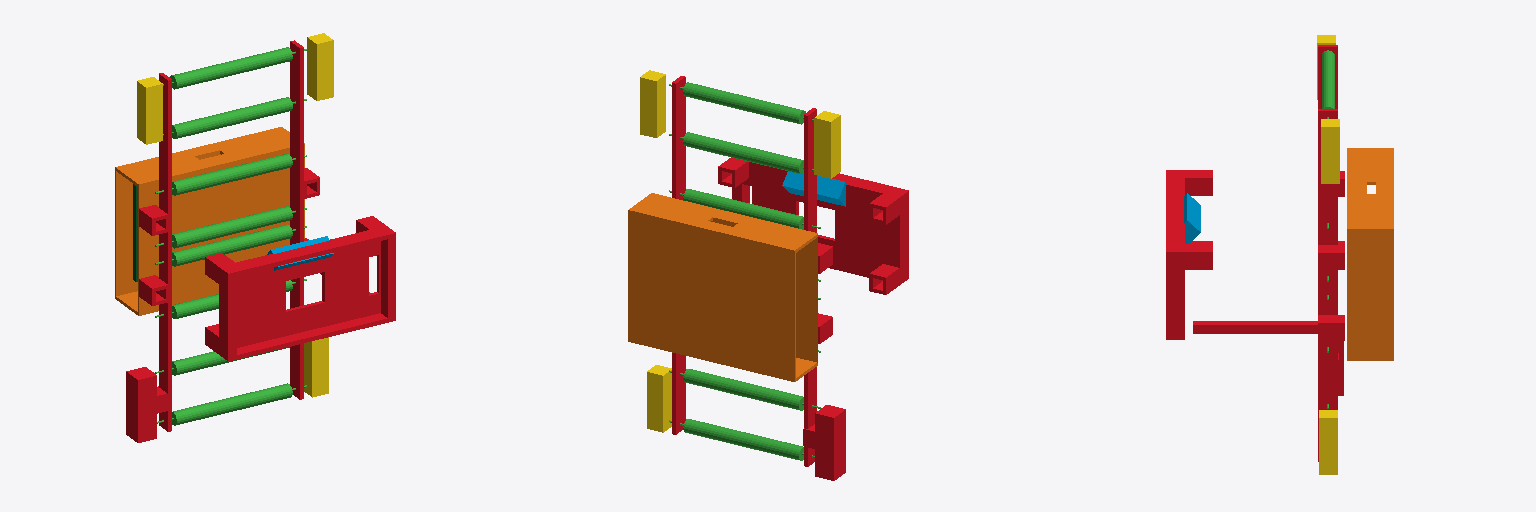
The model's file is tinker.obj.
3 renders of one model, left to right at view 1: azimuth 30°, elevation 25°; view 2: azimuth 150°, elevation 25°; view 3: azimuth 270°, elevation 25°, orthographic.
Parts seen in each view (by area): view 1: obj_0; view 2: obj_0; view 3: obj_0.
Boxes of the visible parts, box(x1,y1,x2,y2) form: obj_0: box(115, 33, 395, 442); obj_0: box(628, 70, 908, 480); obj_0: box(1166, 35, 1393, 474).
Bounding box in the file's own units: 234 × 405 × 235.